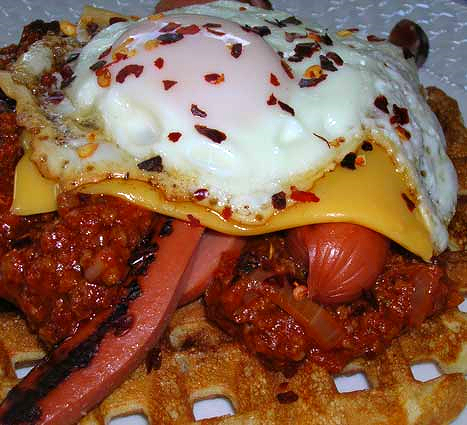fried egg: (48, 19, 378, 179)
